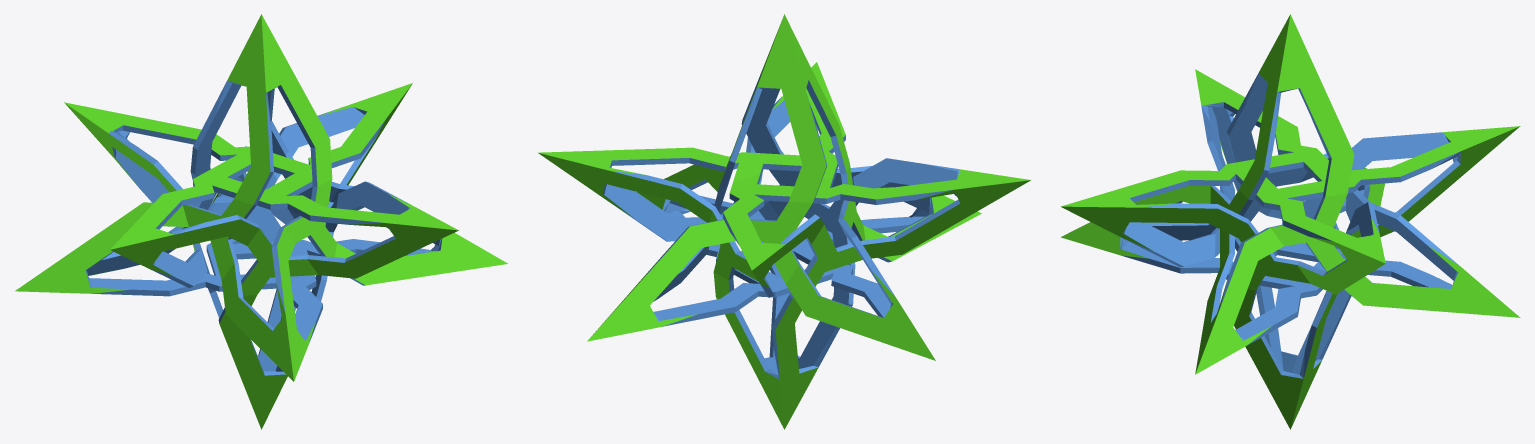
The model's file is AntiprismicPolyknot4.glb.
3 views of the same model, side by side, from view 1: azimuth 30°, elevation 25°; view 2: azimuth 150°, elevation 25°; view 3: azimuth 270°, elevation 25° (orthographic).
Visible parts, largest first — view 1: OK_ESCHER_BBBa_AP4_; view 2: OK_ESCHER_BBBa_AP4_; view 3: OK_ESCHER_BBBa_AP4_.
Part boxes in pixels (<box>): OK_ESCHER_BBBa_AP4_: <box>15,14,507,429</box>; OK_ESCHER_BBBa_AP4_: <box>538,14,1030,429</box>; OK_ESCHER_BBBa_AP4_: <box>1061,14,1520,429</box>.
Bounding box in the file's own units: 150 × 150 × 150.
